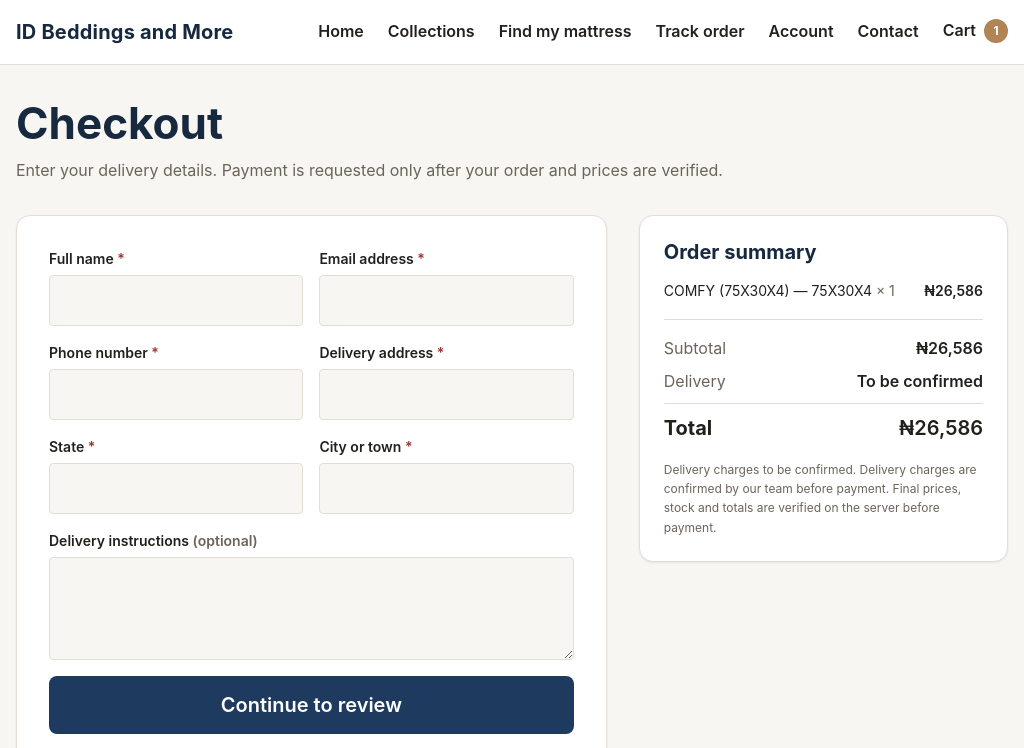
Scenario: App storefront routing › validates the checkout form before showing a review
Click the button "Continue to review". click: (311,704)
box: [49,676,574,734]
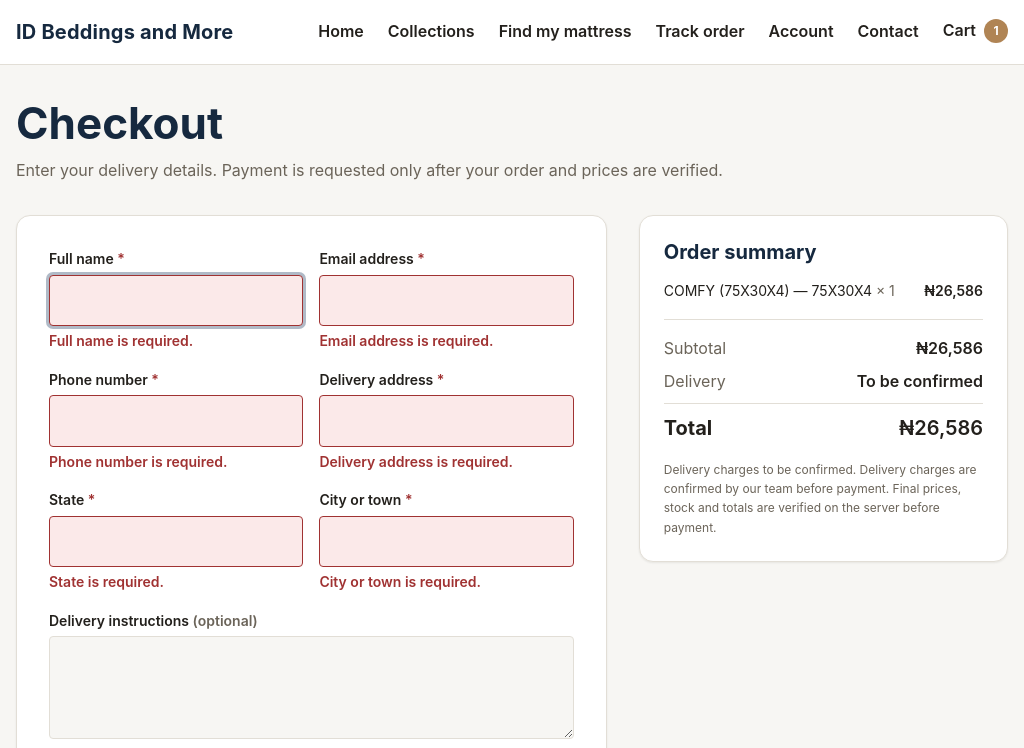
Now the text "Full name is required." is shown, box [49,332,193,349]
Now the text "Email address is required." is shown, box [319,332,493,349]
